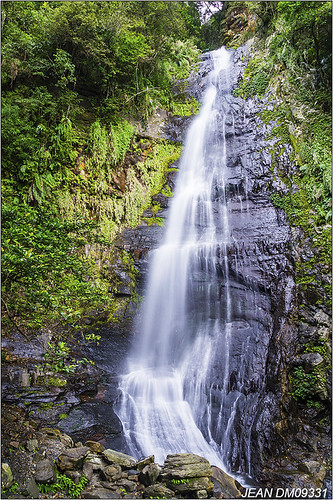wufengciWaterfall: (114, 45, 271, 447)
